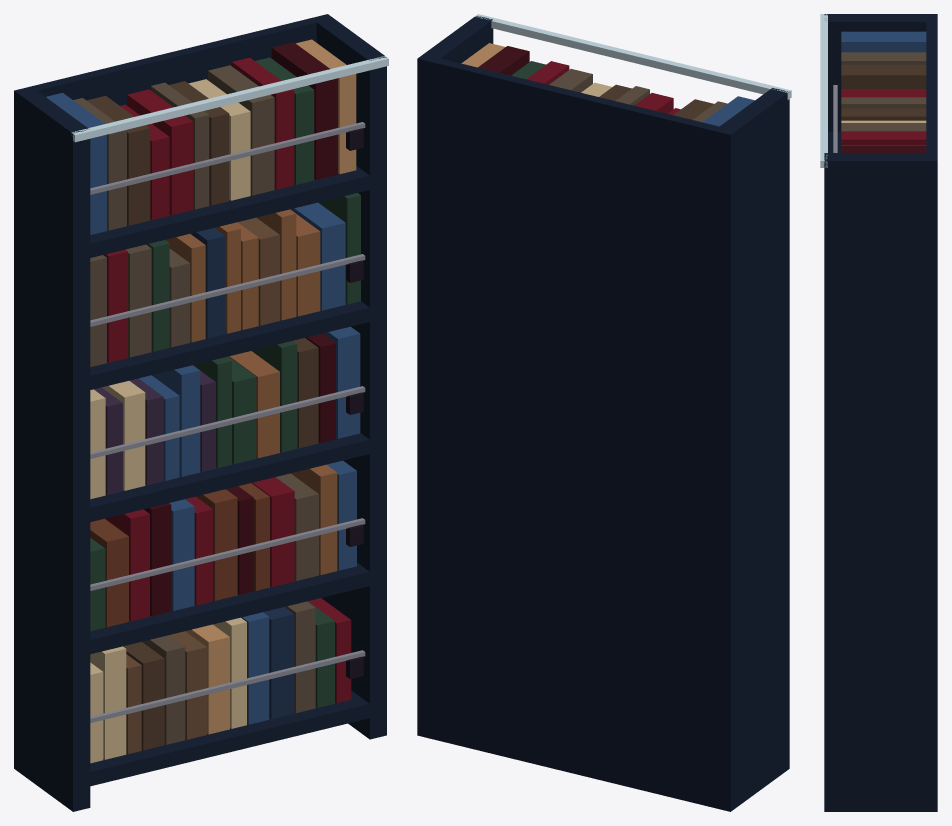
Rendered from chained_bookcase.glb.
The picture shows the model from 3 angles, left to right: view 1: azimuth 30°, elevation 25°; view 2: azimuth 150°, elevation 25°; view 3: azimuth 270°, elevation 25°; orthographic projection. The views are drawn at different scales.
Parts seen in each view (by area): view 1: chained_bookcase; view 2: chained_bookcase; view 3: chained_bookcase.
Part boxes in pixels (<box>): chained_bookcase: <box>14,14,388,811</box>; chained_bookcase: <box>417,14,791,811</box>; chained_bookcase: <box>820,14,937,811</box>.
Size of the model in its own units: 0.92 by 1.9 by 0.31.
